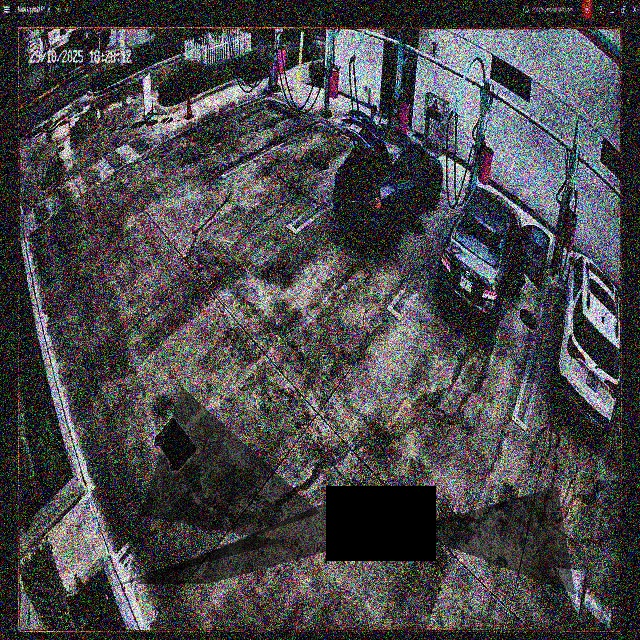Car: (438, 191, 545, 336), (337, 111, 442, 243)
